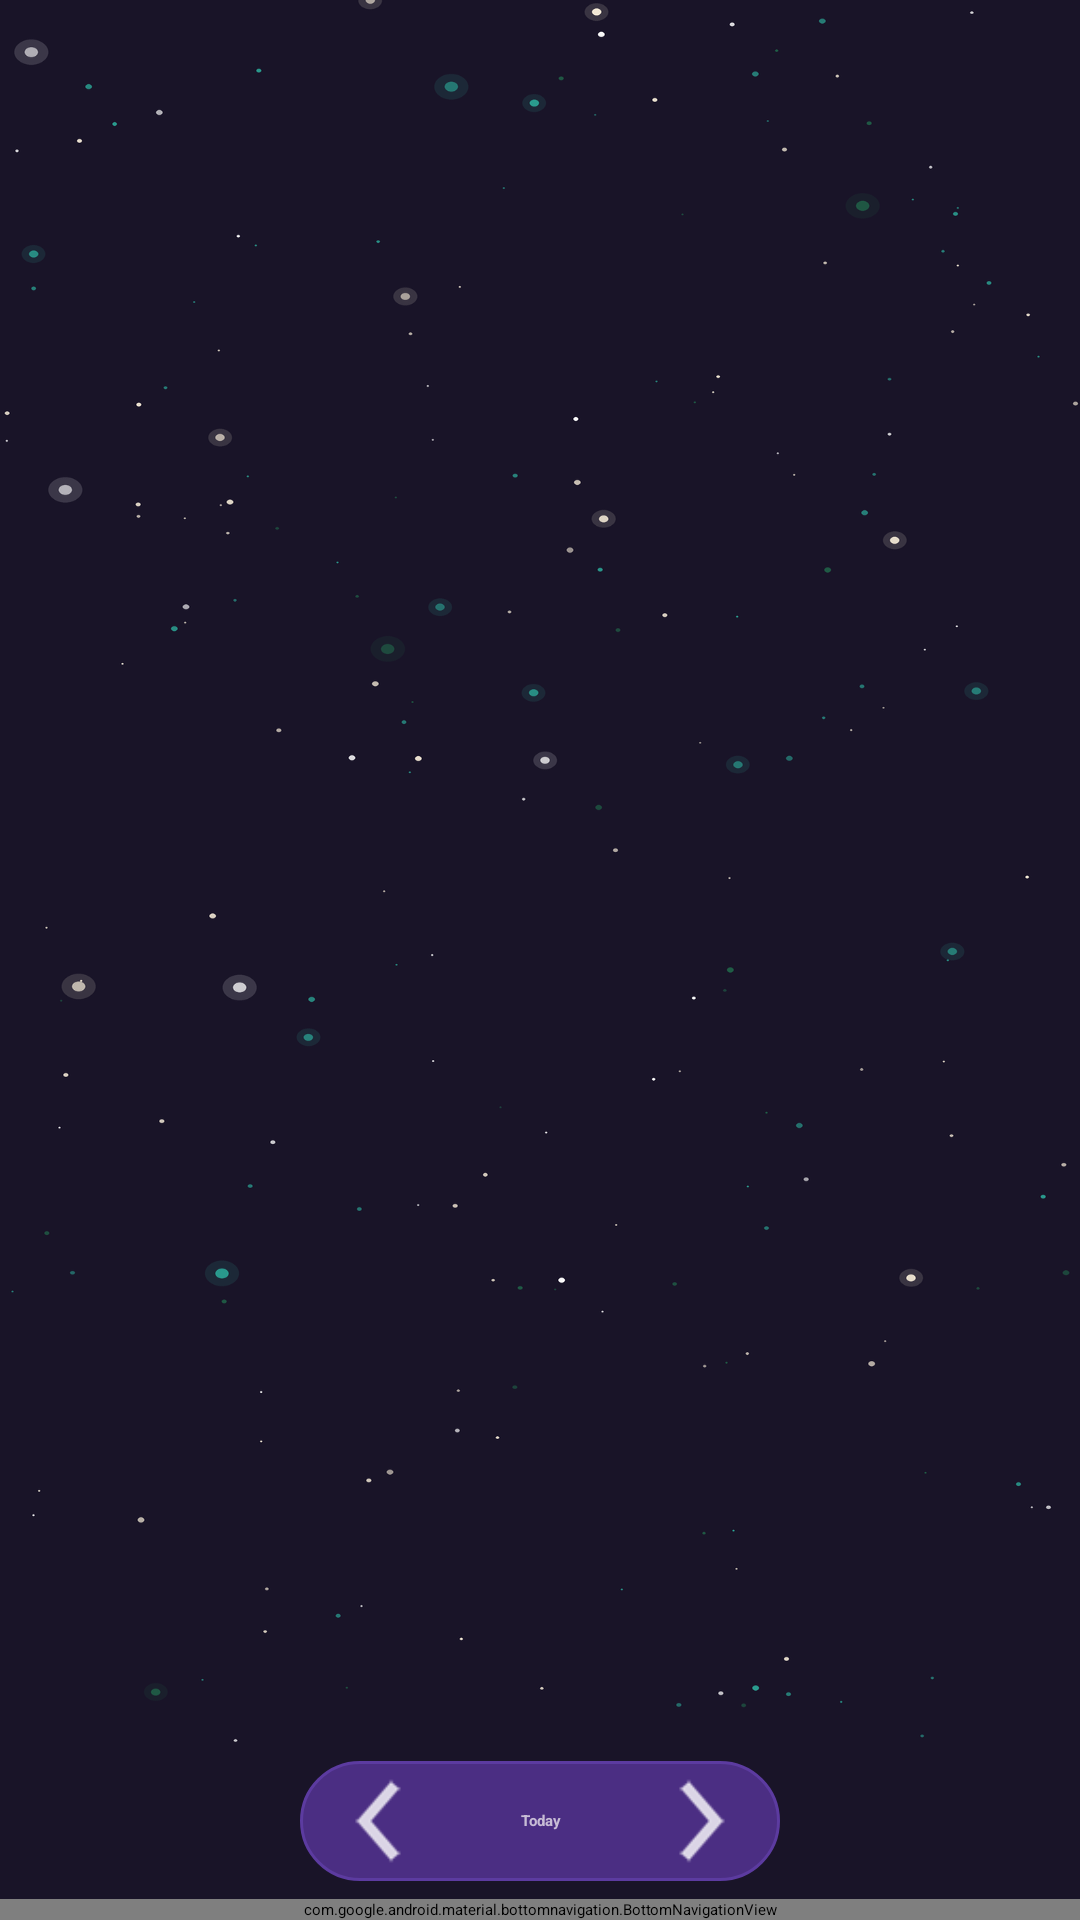

Where to tap for icons on this 1080 × 1920 app screen, as (x,y):
Next Day: (702,1821)
Previous Day: (378,1821)
